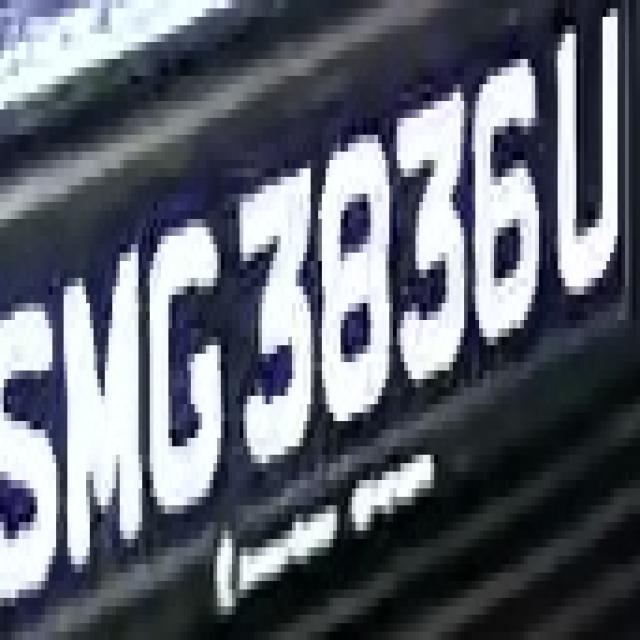3: (382, 84, 468, 404), (232, 160, 314, 480)
6: (460, 25, 543, 396)
8: (307, 93, 404, 446)
G: (142, 194, 228, 522)
M: (56, 211, 150, 581)
S: (8, 270, 52, 590)
U: (546, 0, 636, 320)
